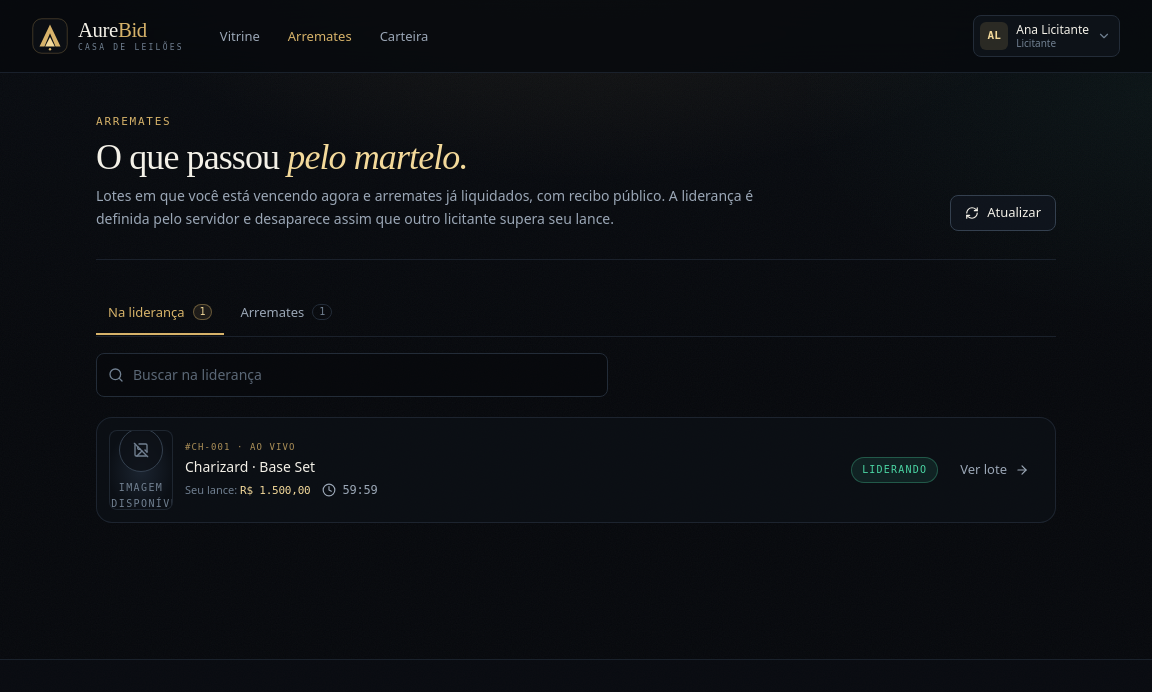
it: meus arremates › alterna para a aba de arremates concluídos
The width and height of the screenshot is (1152, 692).
Click the button "Arremates 1" at {"x": 286, "y": 313}, box left=228, top=292, right=344, bottom=335
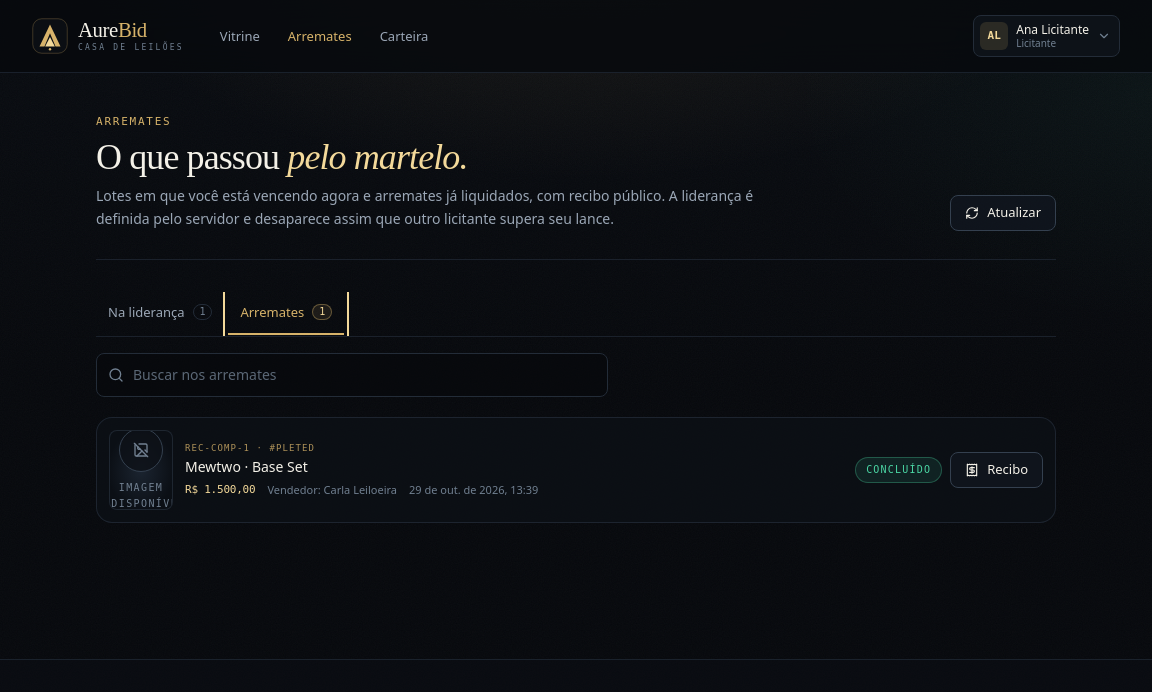
Result: the text "Mewtwo · Base Set" is shown at left=185, top=457, right=308, bottom=476
Result: the link "Recibo" is shown at left=950, top=452, right=1043, bottom=488
